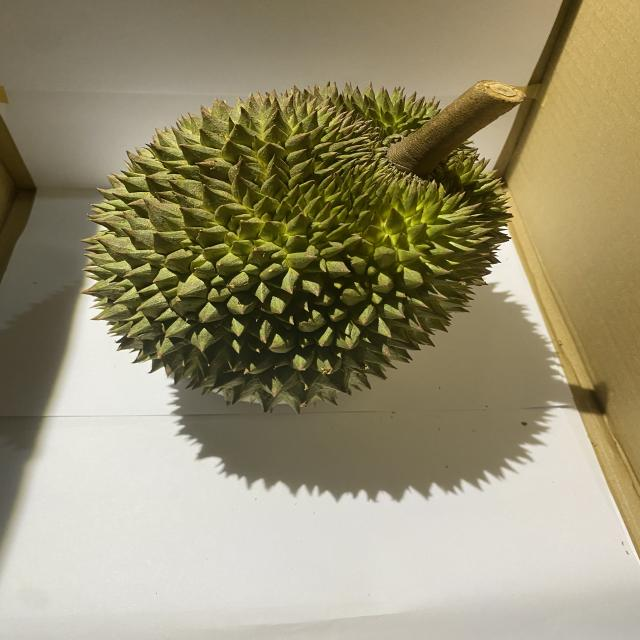immature: (75, 80, 513, 420)
